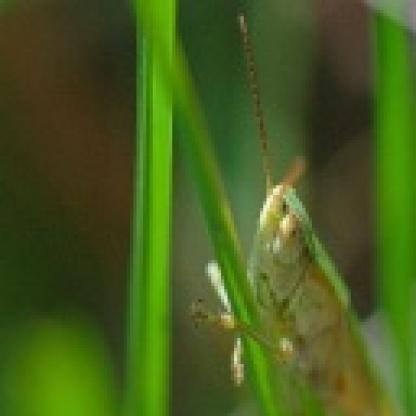grasshopper: (211, 142, 411, 416)
